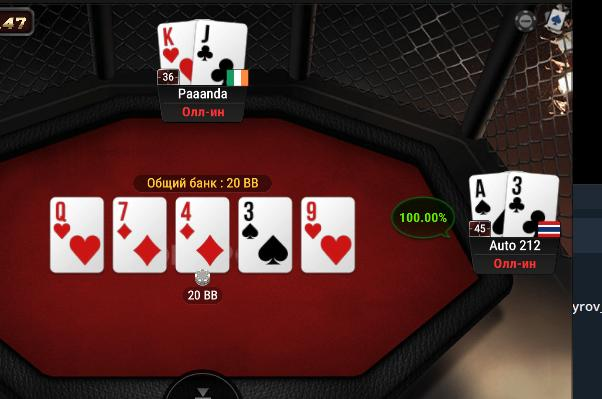3c: (508, 172, 558, 237)
3s: (239, 197, 292, 272)
4d: (176, 198, 229, 274)
7d: (114, 199, 165, 271)
9h: (302, 198, 354, 272)
As: (469, 173, 506, 236)
Jc: (194, 17, 247, 84)
Kh: (156, 19, 193, 86)
Qh: (51, 198, 103, 272)
